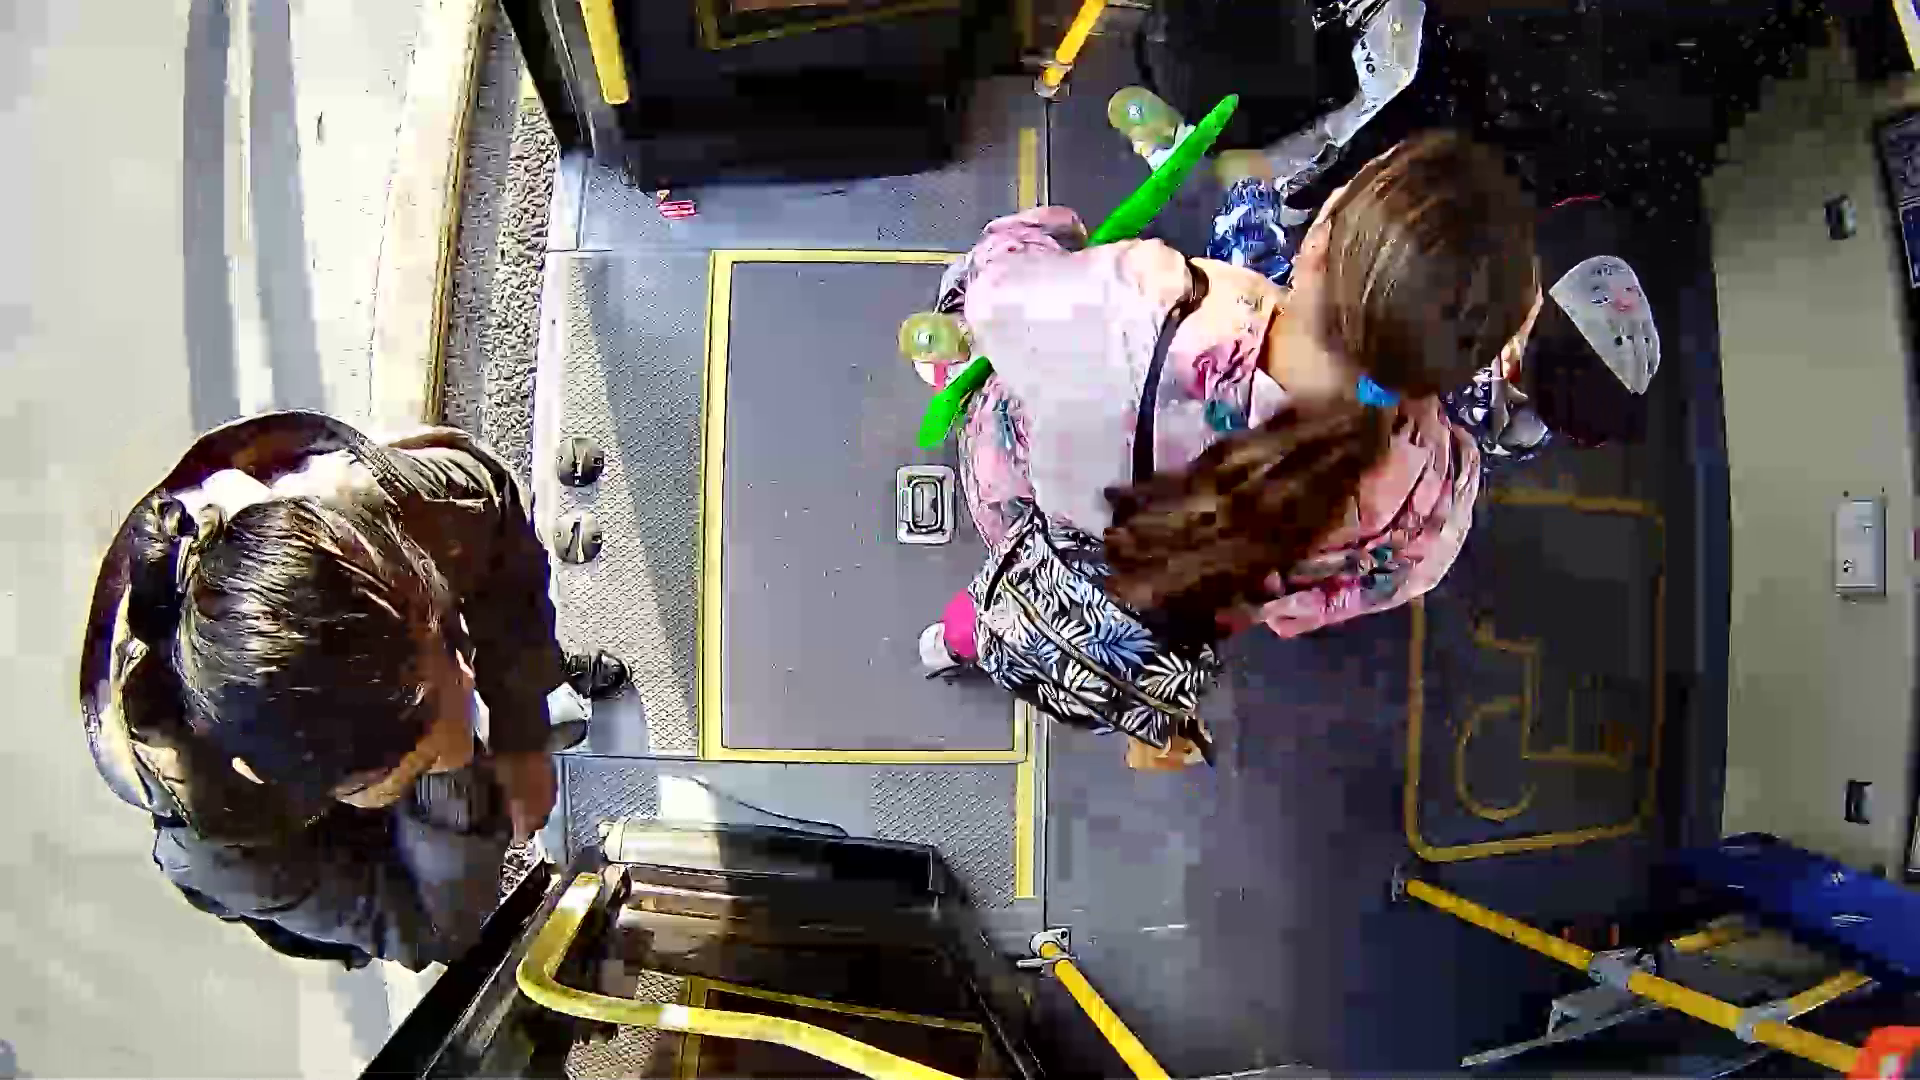person: (860, 124, 1729, 794), (98, 359, 719, 981)
